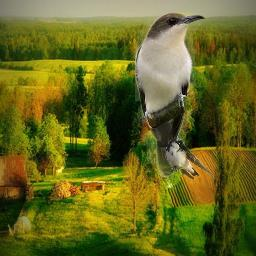Cuckoo: (135, 12, 206, 179)
Swallow: (164, 137, 215, 180)
